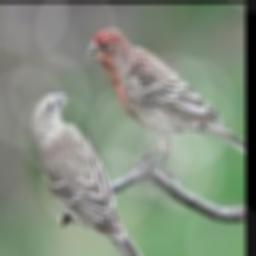Sparrow: (86, 27, 245, 173), (30, 93, 151, 256)
